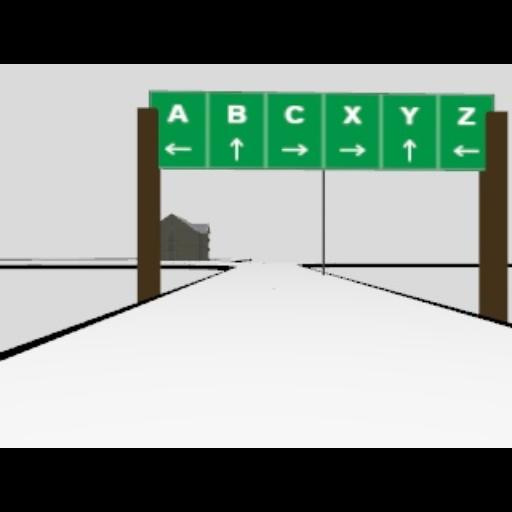A: (167, 102, 189, 122)
B: (226, 104, 246, 124)
C: (284, 104, 304, 124)
Left: (164, 142, 192, 156), (450, 144, 480, 156)
Right: (280, 142, 308, 156), (338, 144, 364, 156)
Straight: (229, 136, 243, 160), (402, 138, 416, 160)
X: (342, 104, 362, 124)
Y: (398, 104, 420, 124)
Z: (456, 106, 476, 124)
